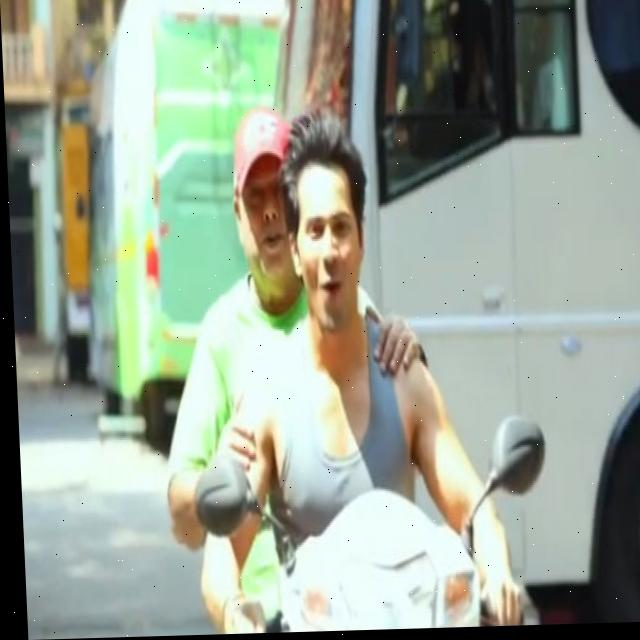without helmet: (216, 97, 379, 348)
